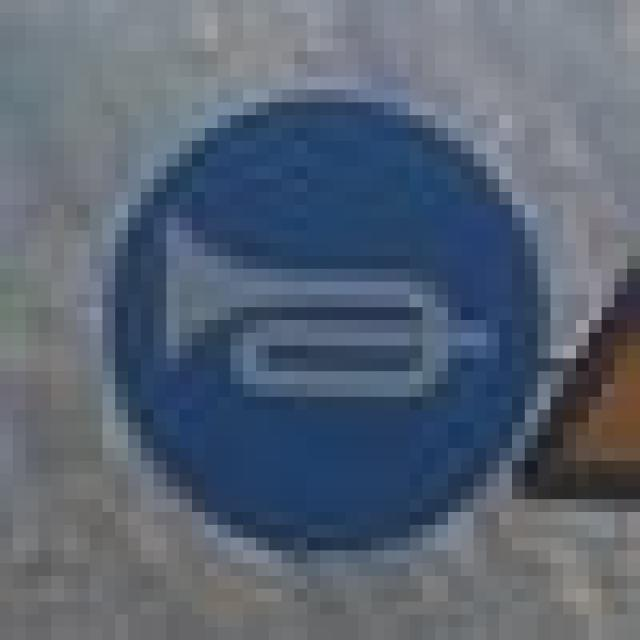compulsory_min_speed: (76, 64, 538, 550)
